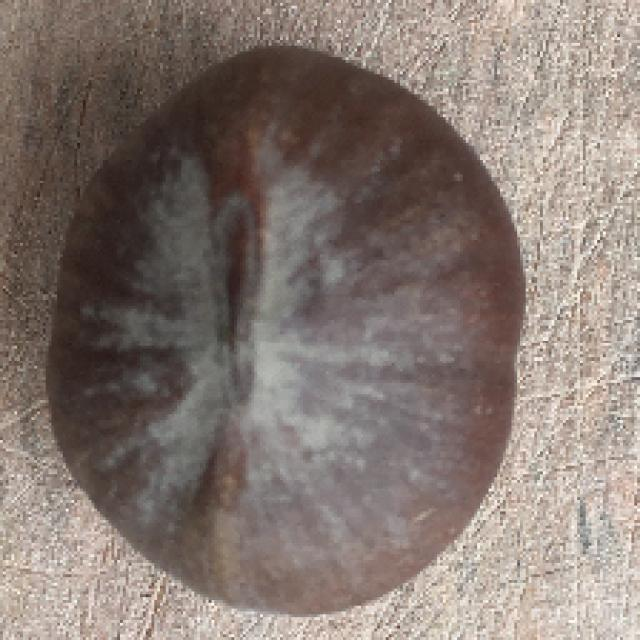DamagedHazelnut: (43, 45, 527, 614)
